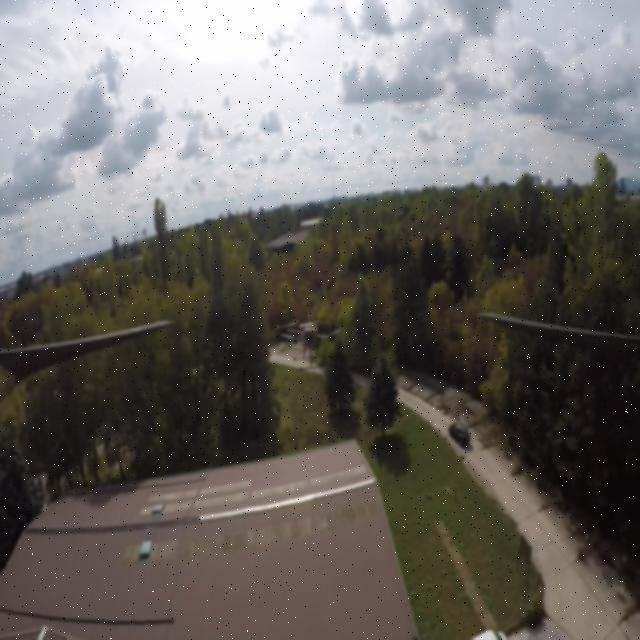UAV: (273, 310, 341, 372)
